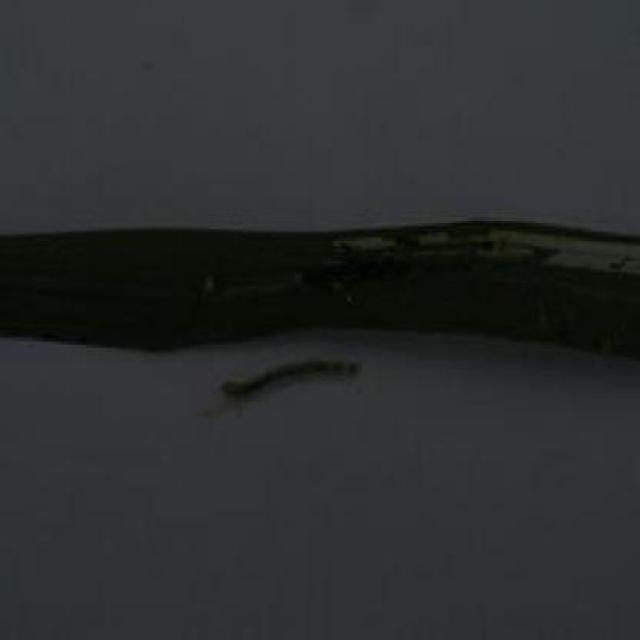leaf-folder: (194, 340, 388, 431)
